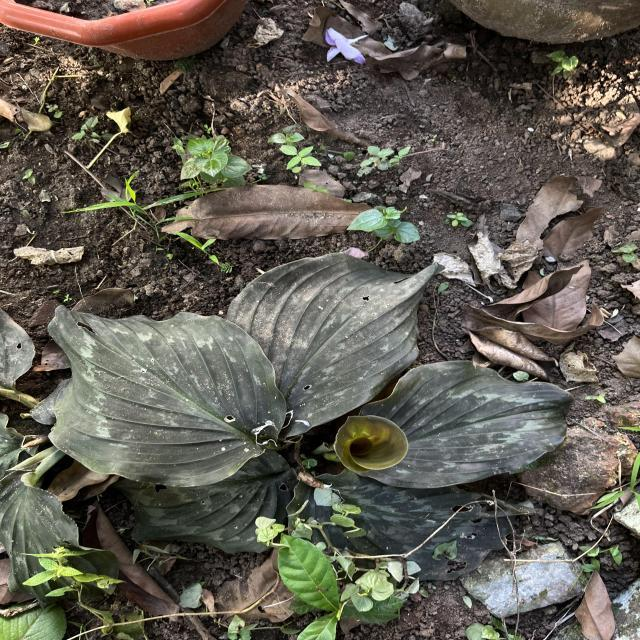Kaempferia galanga linn: (44, 302, 288, 489), (226, 251, 447, 444), (356, 358, 579, 490)
